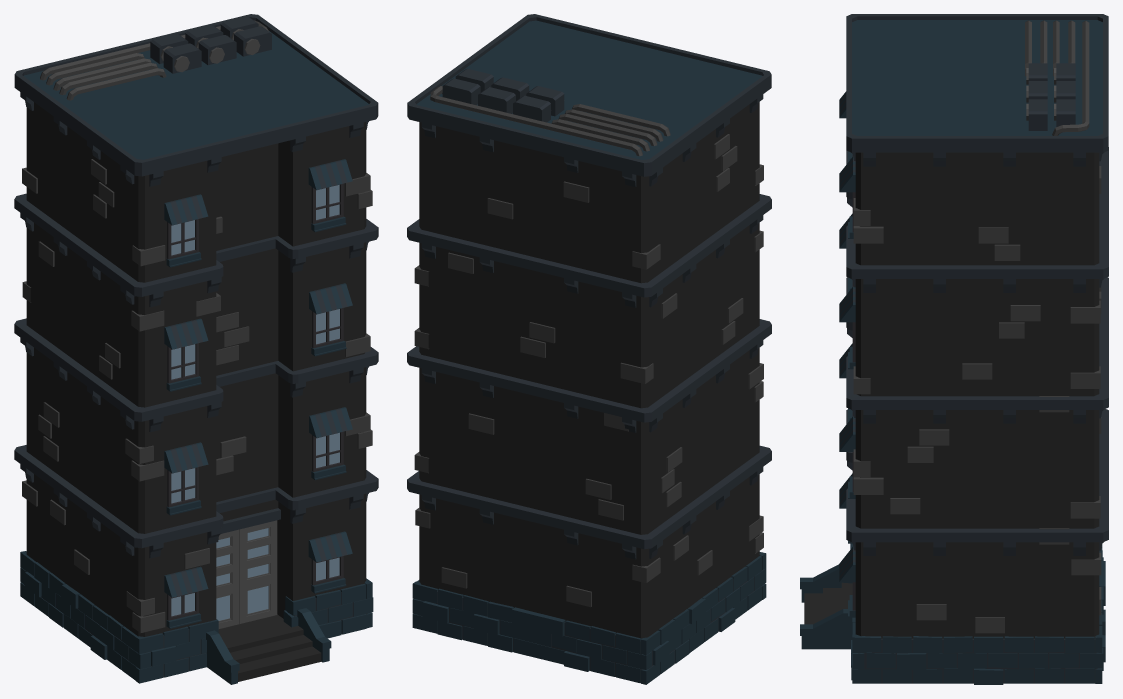
The model's file is 4Story_Center.obj.
3 views of the same model, side by side, from view 1: azimuth 30°, elevation 25°; view 2: azimuth 150°, elevation 25°; view 3: azimuth 270°, elevation 25° (orthographic). The views are drawn at different scales.
Visible parts, largest first — view 1: 4Story_Center; view 2: 4Story_Center; view 3: 4Story_Center.
Part boxes in pixels (x1,y1,x2,y2): 4Story_Center: [14, 14, 378, 684]; 4Story_Center: [407, 14, 771, 684]; 4Story_Center: [800, 14, 1108, 684].
Size of the model in its own units: 2.42 by 5.09 by 2.53.
